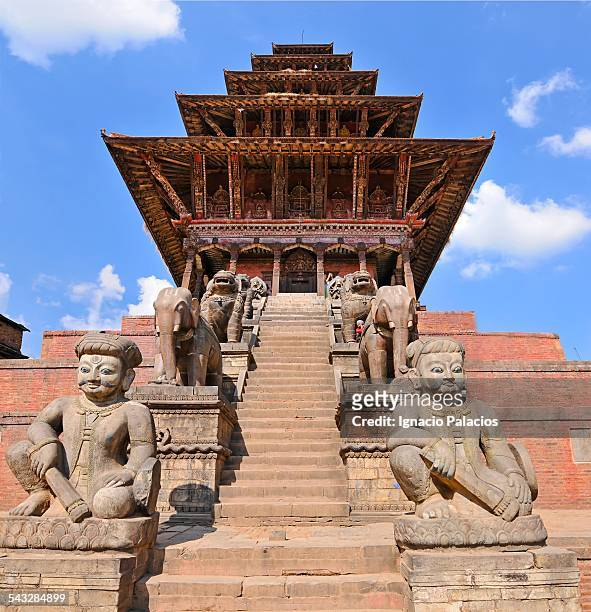nyathapola: (31, 15, 581, 611)
